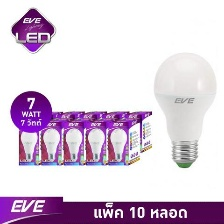carton: (104, 117, 143, 167), (81, 116, 118, 166), (60, 116, 96, 167), (98, 105, 135, 149), (53, 109, 89, 152), (37, 118, 68, 166), (122, 107, 154, 153), (76, 106, 110, 149), (15, 122, 42, 167)
light_bulb: (147, 45, 221, 174)
